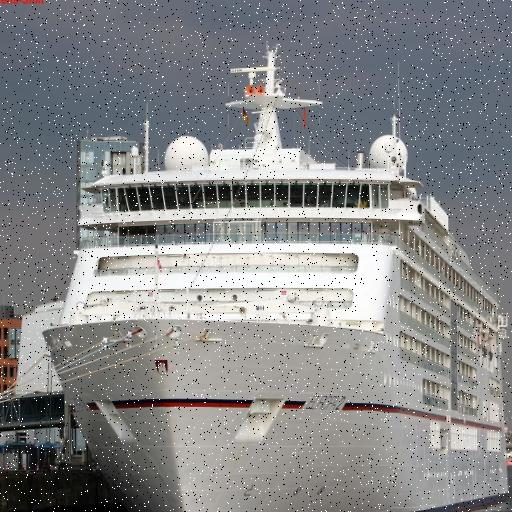cruises: (38, 44, 512, 512)
